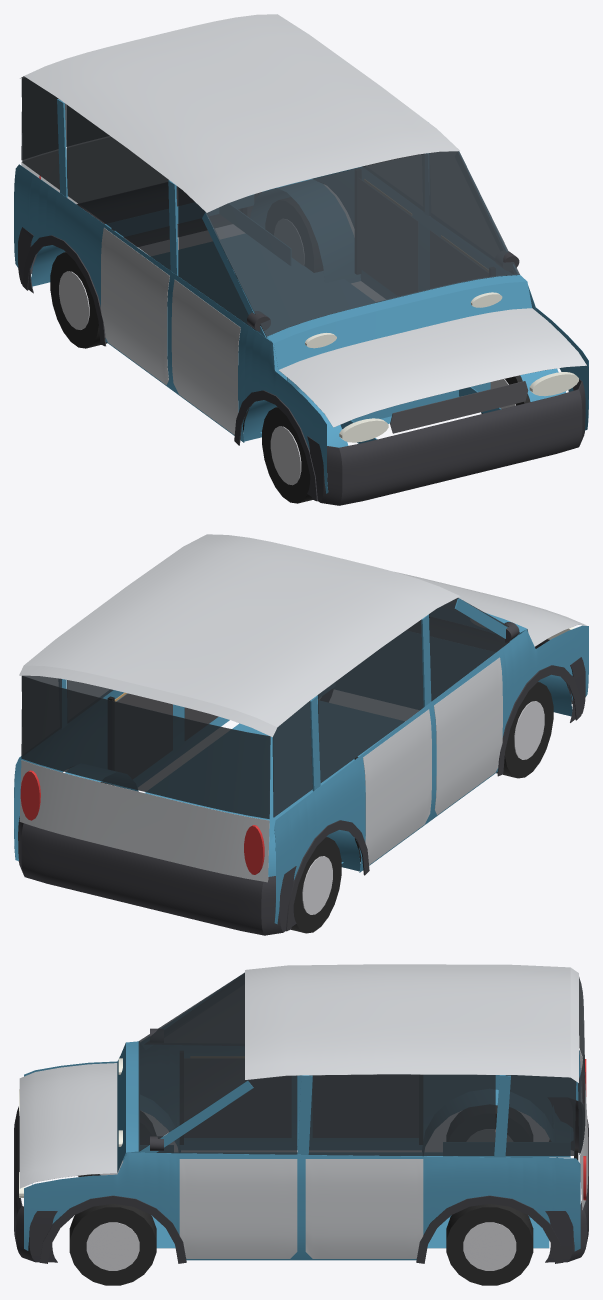
The model's file is carrosserie-alu.glb.
3 views of the same model, one above another, from view 1: azimuth 30°, elevation 25°; view 2: azimuth 150°, elevation 25°; view 3: azimuth 270°, elevation 25° (orthographic). The views are drawn at different scales.
Parts seen in each view (by area): view 1: CAR-PANEL-ROOF 1, Pare-brise 1, CAR-HOOD-SHELL 1, CAR-BUMPER-SKIN-FRONT 1, CAR-PANEL-SIDE 2, Vitre arrière 2, CAR-COWL 1, CAR-DOOR-SHELL-REAR 2, CAR-DOOR-SHELL-FRONT 2, Vitre avant 2, CAR-GLASS-QUARTER 2, CAR-GRILLE 1 (+19 smaller); view 2: CAR-PANEL-ROOF 1, CAR-GLASS-TAILGATE 1, CAR-BUMPER-SKIN-REAR 1, CAR-TAILGATE-SHELL 1, CAR-PANEL-SIDE 2, Vitre arrière 2, CAR-DOOR-SHELL-FRONT 2, CAR-DOOR-SHELL-REAR 2, Vitre avant 2, CAR-GLASS-QUARTER 2, CAR-PANEL-FLOOR 1, CAR-HOOD-SHELL 1 (+17 smaller); view 3: CAR-PANEL-ROOF 1, CAR-PANEL-SIDE 1, Vitre arrière 1, Pare-brise 1, CAR-DOOR-SHELL-FRONT 1, CAR-DOOR-SHELL-REAR 1, CAR-HOOD-SHELL 1, Vitre avant 1, CAR-GLASS-QUARTER 1, Pneu 1, Pneu 3, CAR-COWL 1 (+16 smaller).
Boxes of the visible parts, <box> form: CAR-PANEL-ROOF 1: <box>20,14,459,212</box>; Pare-brise 1: <box>205,151,519,336</box>; CAR-HOOD-SHELL 1: <box>279,308,586,427</box>; CAR-BUMPER-SKIN-FRONT 1: <box>307,379,585,505</box>; CAR-PANEL-SIDE 2: <box>14,164,328,493</box>; Vitre arrière 2: <box>67,105,170,270</box>; CAR-COWL 1: <box>266,275,531,369</box>; CAR-DOOR-SHELL-REAR 2: <box>101,228,169,385</box>; CAR-DOOR-SHELL-FRONT 2: <box>171,279,240,434</box>; Vitre avant 2: <box>178,187,256,330</box>; CAR-GLASS-QUARTER 2: <box>21,76,59,189</box>; CAR-GRILLE 1: <box>390,381,528,433</box>; CAR-PANEL-ROOF 1: <box>19,534,459,737</box>; CAR-GLASS-TAILGATE 1: <box>21,675,270,818</box>; CAR-BUMPER-SKIN-REAR 1: <box>18,816,296,935</box>; CAR-TAILGATE-SHELL 1: <box>19,760,269,882</box>; CAR-PANEL-SIDE 2: <box>274,625,588,924</box>; Vitre arrière 2: <box>318,620,423,782</box>; CAR-DOOR-SHELL-FRONT 2: <box>434,657,502,815</box>; CAR-DOOR-SHELL-REAR 2: <box>363,709,431,864</box>; Vitre avant 2: <box>429,598,509,701</box>; CAR-GLASS-QUARTER 2: <box>272,700,312,817</box>; CAR-PANEL-FLOOR 1: <box>145,700,404,863</box>; CAR-HOOD-SHELL 1: <box>395,572,586,646</box>; CAR-PANEL-ROOF 1: <box>245,964,578,1082</box>; CAR-PANEL-SIDE 1: <box>24,1152,580,1260</box>; Vitre arrière 1: <box>308,1074,495,1155</box>; Pare-brise 1: <box>138,972,247,1151</box>; CAR-DOOR-SHELL-FRONT 1: <box>179,1159,297,1258</box>; CAR-DOOR-SHELL-REAR 1: <box>305,1159,423,1258</box>; CAR-HOOD-SHELL 1: <box>19,1063,117,1188</box>; Vitre avant 1: <box>156,1075,297,1154</box>; CAR-GLASS-QUARTER 1: <box>505,1075,576,1155</box>; Pneu 1: <box>69,1204,156,1285</box>; Pneu 3: <box>446,1204,533,1285</box>; CAR-COWL 1: <box>117,1041,139,1172</box>.
Bounding box in the file's own units: 1.92 × 1.73 × 4.06.
